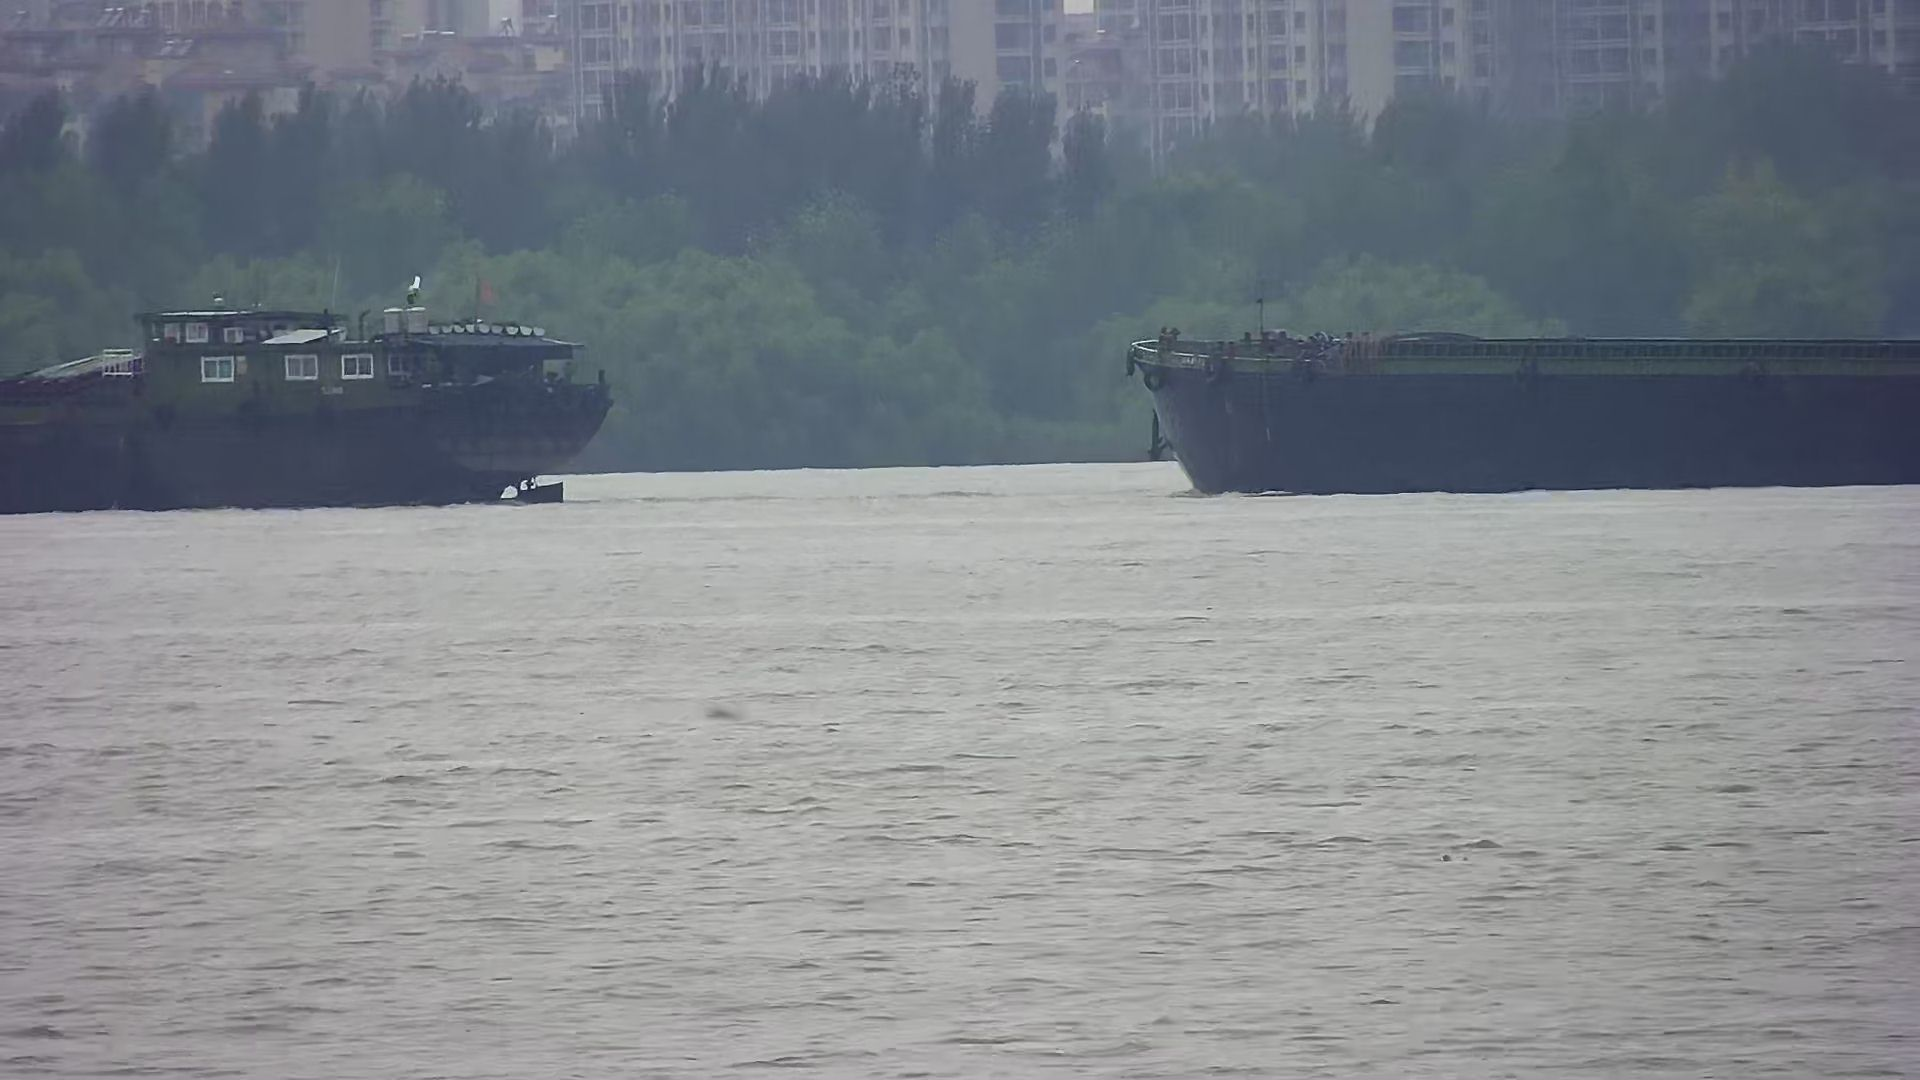ship: (1127, 313, 1920, 493), (1, 299, 613, 510)
